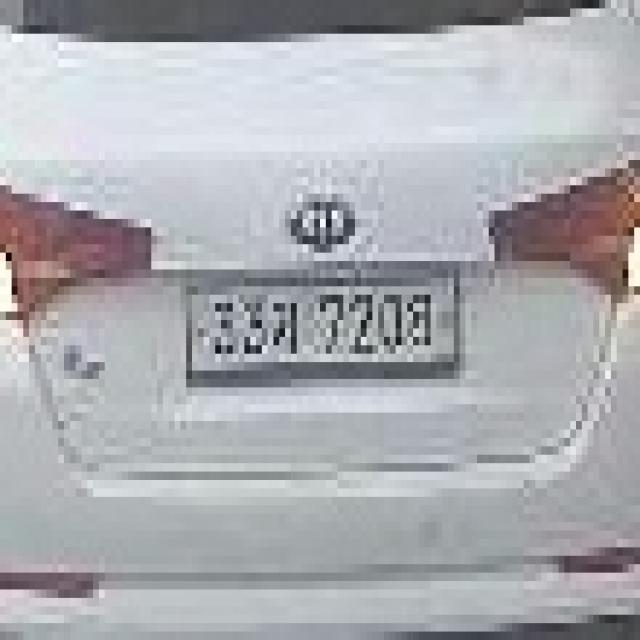0: (378, 286, 402, 362)
2: (343, 286, 378, 362)
3: (238, 295, 268, 362), (210, 295, 238, 362)
7: (314, 286, 343, 362)
8: (402, 286, 436, 362)
geo: (268, 294, 302, 354)
license_plate: (186, 269, 466, 379)
